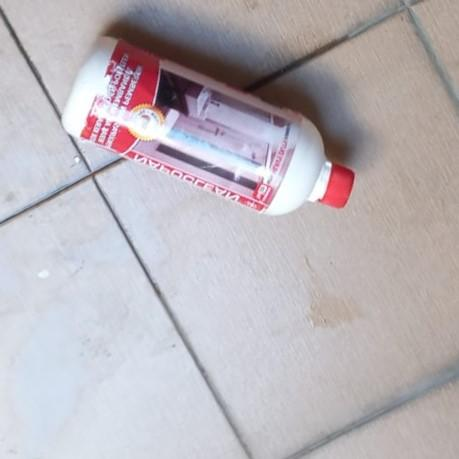Plastik: (59, 36, 354, 217)
